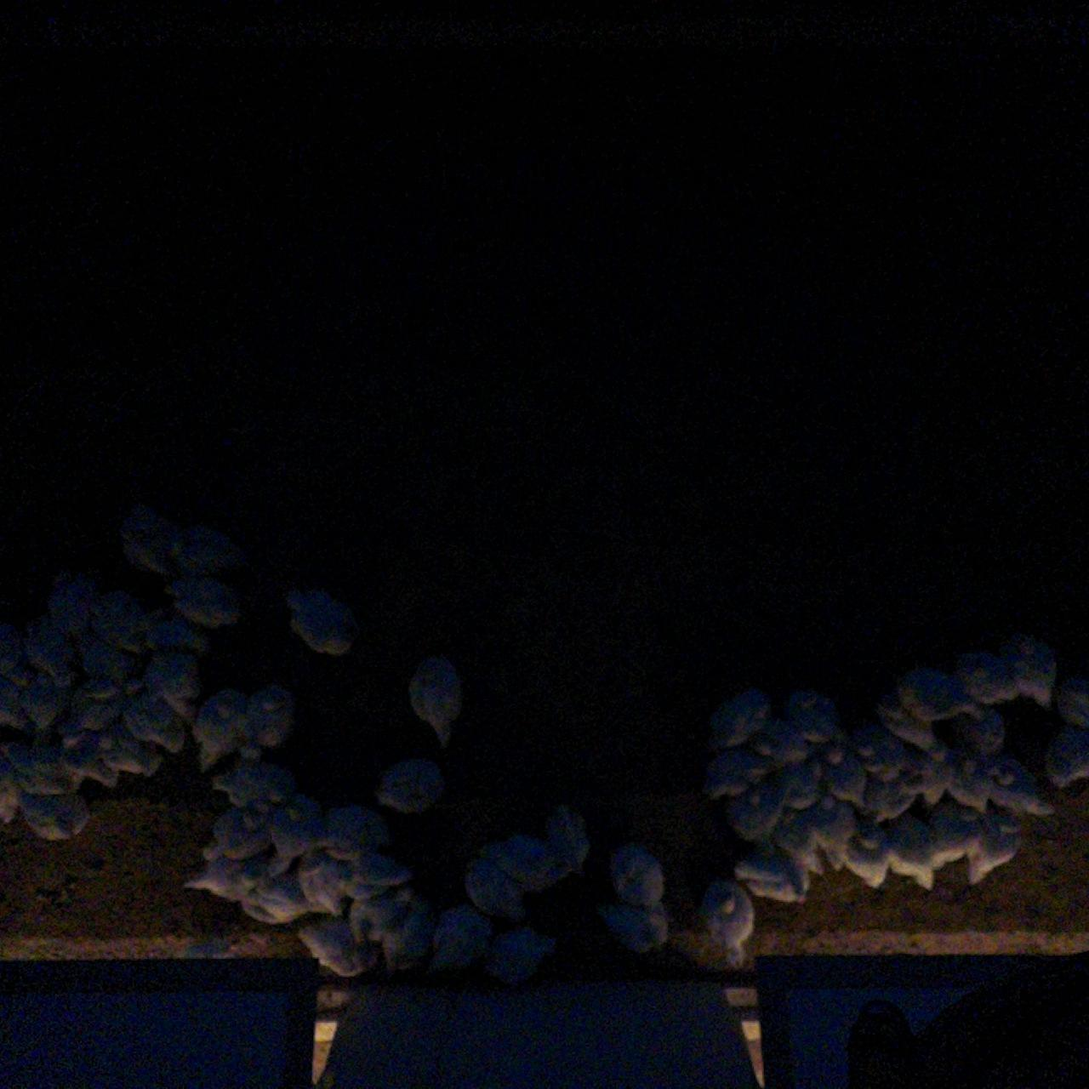chicken: (279, 580, 365, 659), (693, 873, 760, 973), (179, 844, 294, 902), (406, 650, 468, 751), (295, 911, 381, 982), (868, 686, 948, 762), (185, 681, 251, 772), (995, 625, 1062, 714), (471, 830, 568, 890), (421, 899, 496, 976), (59, 675, 148, 738), (891, 662, 982, 721), (784, 684, 849, 766), (697, 684, 773, 754), (369, 752, 449, 818), (729, 843, 809, 908), (482, 921, 562, 986), (160, 570, 247, 629), (380, 899, 441, 982), (959, 810, 1023, 889), (458, 855, 531, 924), (204, 758, 304, 808), (880, 809, 940, 892), (15, 612, 85, 683), (605, 837, 672, 911), (122, 688, 193, 756), (242, 682, 299, 765), (163, 519, 249, 574), (592, 899, 674, 956), (39, 565, 101, 636), (86, 584, 150, 652), (987, 759, 1057, 821), (318, 803, 395, 859), (345, 885, 416, 945), (79, 635, 145, 699), (55, 727, 123, 789), (200, 807, 275, 863), (951, 644, 1022, 703), (339, 849, 418, 901), (117, 499, 173, 572), (13, 790, 92, 841), (925, 805, 984, 872), (808, 798, 860, 872), (144, 649, 204, 713), (264, 789, 323, 854), (841, 815, 892, 890), (97, 723, 165, 779), (699, 750, 768, 805), (295, 844, 348, 915), (542, 796, 593, 868), (948, 703, 1009, 762), (238, 876, 311, 925), (774, 811, 827, 877), (722, 779, 781, 838), (16, 667, 67, 734), (148, 609, 216, 658), (1039, 725, 1089, 790), (0, 735, 55, 790), (945, 748, 992, 811), (844, 724, 904, 772), (754, 718, 810, 767), (764, 764, 822, 810), (897, 753, 951, 802), (822, 753, 868, 810), (860, 775, 914, 823), (1049, 672, 1089, 724), (0, 670, 22, 732)
